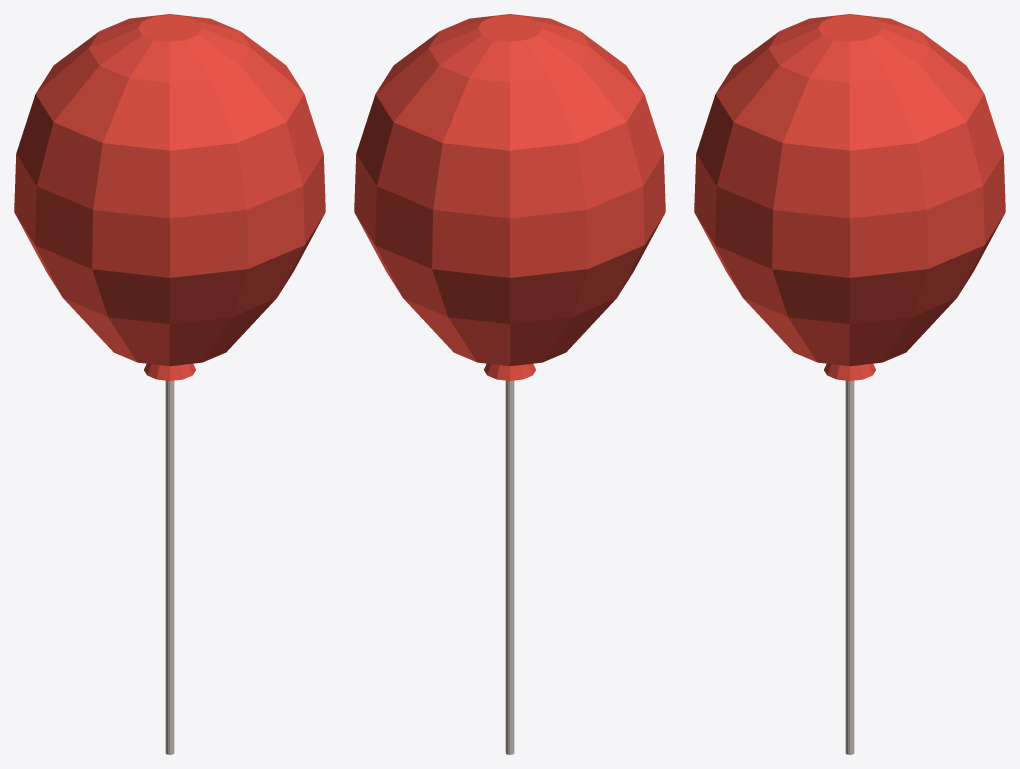
File: balloon.fbx
3 views of the same model, side by side, from view 1: azimuth 30°, elevation 25°; view 2: azimuth 150°, elevation 25°; view 3: azimuth 270°, elevation 25° (orthographic).
Parts seen in each view (by area): view 1: balloon; view 2: balloon; view 3: balloon.
Part boxes in pixels (bbox=[...]): balloon: bbox=[14, 14, 325, 754]; balloon: bbox=[354, 14, 665, 754]; balloon: bbox=[694, 14, 1005, 754].
Size of the model in its own units: 198 by 509 by 198.
